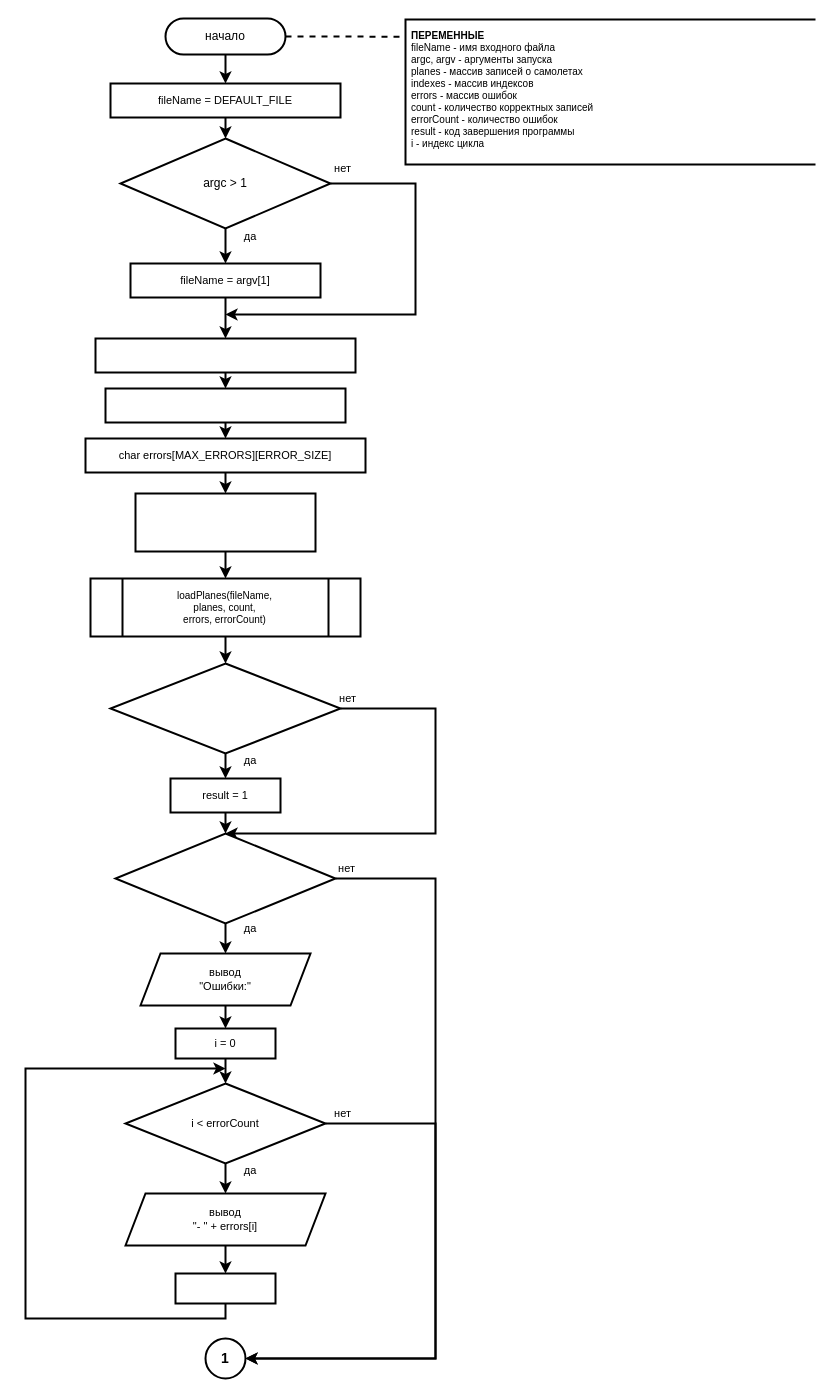
This 833x1396 diagram has some shape labels left out. The shapes that lost their labels are listed below. From the top down, each one's centre as x and y in pixels, then its label:
(x=225, y=355): planes = new Plane[MAX_PLANES]
(x=225, y=405): indexes = new int[MAX_PLANES]
(x=225, y=522): count = 0 errorCount = 0 result = 0
(x=225, y=708): loadPlanes вернул false?
(x=225, y=878): errorCount > 0
(x=225, y=1288): i++
